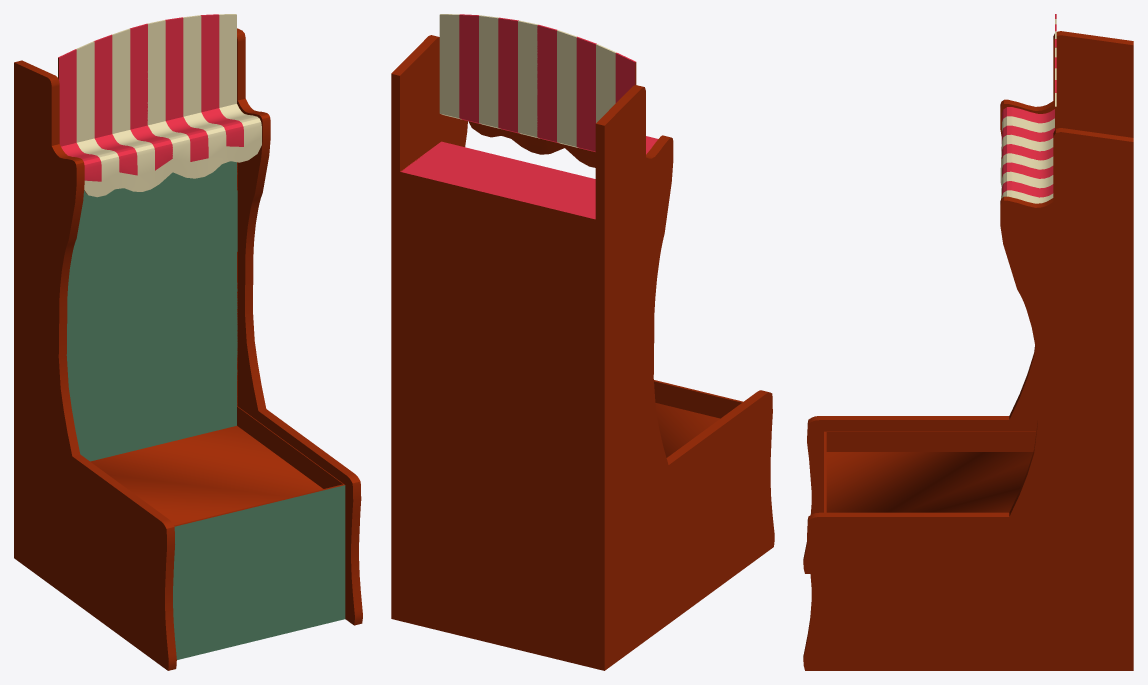
The model's file is f_lakamol.fbx.
3 renders of one model, left to right at view 1: azimuth 30°, elevation 25°; view 2: azimuth 150°, elevation 25°; view 3: azimuth 270°, elevation 25°, orthographic. The views are drawn at different scales.
Parts seen in each view (by area): view 1: f_lakamol_02.002; view 2: f_lakamol_02.002; view 3: f_lakamol_02.002.
Boxes of the visible parts, bbox=[...] form: f_lakamol_02.002: bbox=[14, 14, 362, 670]; f_lakamol_02.002: bbox=[391, 14, 774, 670]; f_lakamol_02.002: bbox=[803, 14, 1133, 670].
Bounding box in the file's own units: 156 × 412 × 215.
